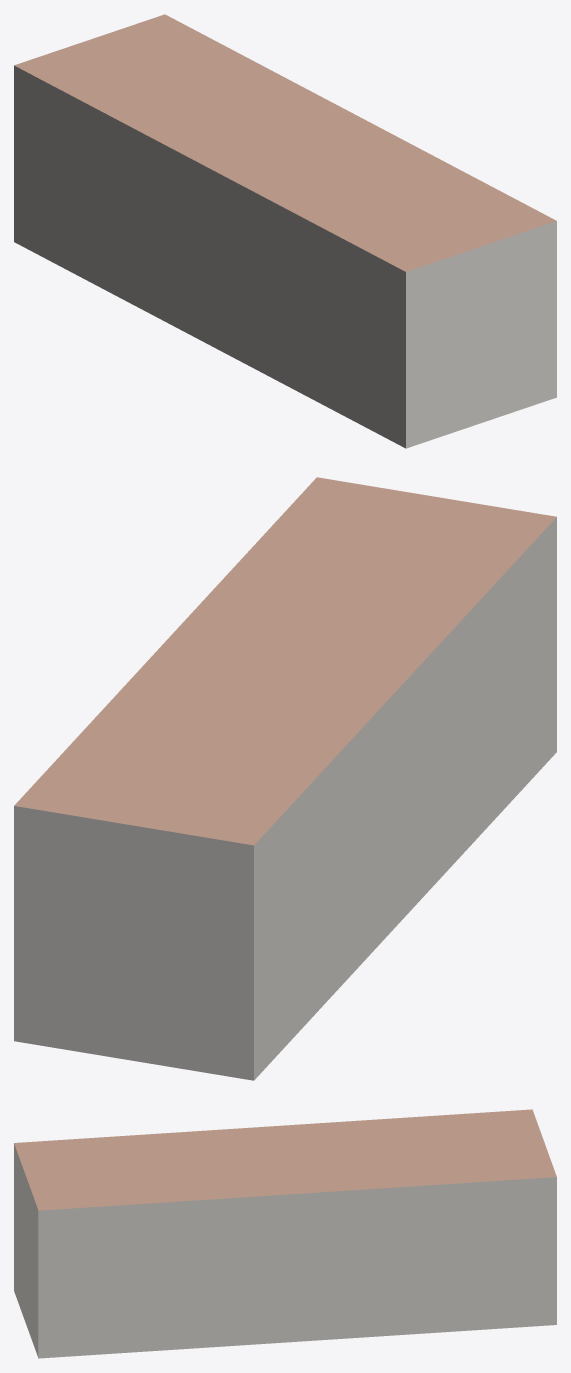
File: gridID_9.dae
The picture shows the model from 3 angles, top to bottom: view 1: azimuth 30°, elevation 25°; view 2: azimuth 150°, elevation 25°; view 3: azimuth 270°, elevation 25°; orthographic projection. The views are drawn at different scales.
Visible parts, largest first — view 1: model_gridID_9_w389865179; view 2: model_gridID_9_w389865179; view 3: model_gridID_9_w389865179.
Part boxes in pixels (x1,y1,x2,y2): model_gridID_9_w389865179: (14,14,556,448); model_gridID_9_w389865179: (14,477,556,1080); model_gridID_9_w389865179: (14,1109,556,1358).
Bounding box in the file's own units: 11.01 × 24.96 × 7.5.
